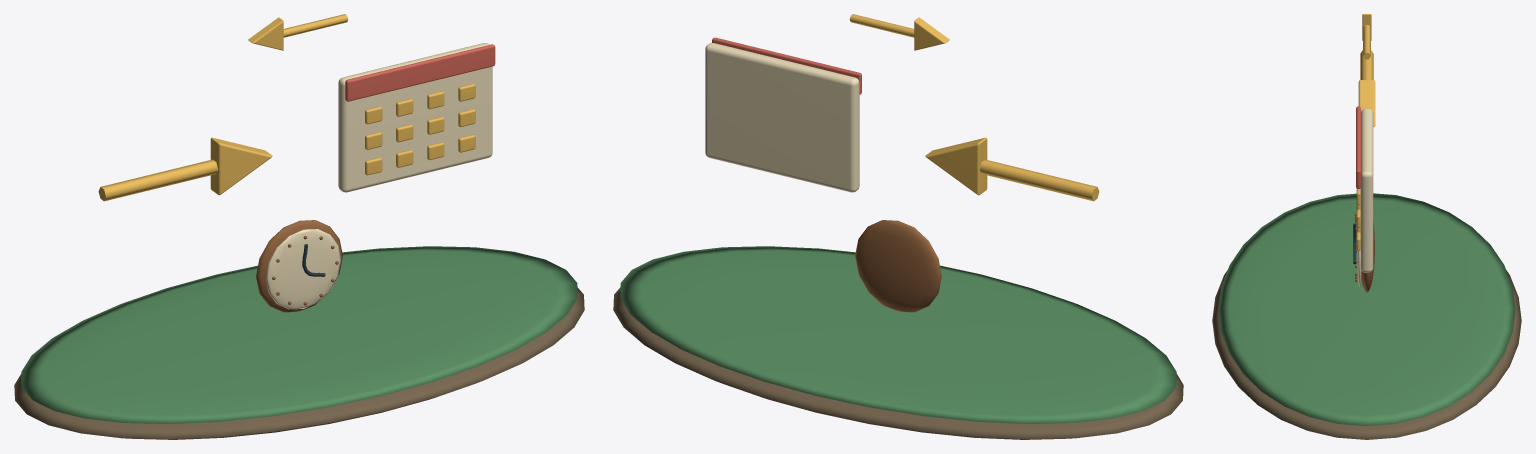
Rendered from complete-first-last-year-calendar.glb.
3 views of the same model, side by side, from view 1: azimuth 30°, elevation 25°; view 2: azimuth 150°, elevation 25°; view 3: azimuth 270°, elevation 25° (orthographic). The views are drawn at different scales.
Parts seen in each view (by area): view 1: complete-first-last-year-calendar_surface_01, complete-first-last-year-calendar_surface_03, complete-first-last-year-calendar_surface_00, complete-first-last-year-calendar_surface_02, complete-first-last-year-calendar_surface_04, complete-first-last-year-calendar_surface_05; view 2: complete-first-last-year-calendar_surface_01, complete-first-last-year-calendar_surface_03, complete-first-last-year-calendar_surface_00, complete-first-last-year-calendar_surface_05, complete-first-last-year-calendar_surface_02, complete-first-last-year-calendar_surface_04; view 3: complete-first-last-year-calendar_surface_01, complete-first-last-year-calendar_surface_00, complete-first-last-year-calendar_surface_03, complete-first-last-year-calendar_surface_02, complete-first-last-year-calendar_surface_04, complete-first-last-year-calendar_surface_05.
Boxes of the visible parts, x1,y1,x2,y2 form: complete-first-last-year-calendar_surface_01: (21,246,577,423); complete-first-last-year-calendar_surface_03: (265,43,492,309); complete-first-last-year-calendar_surface_00: (14,288,584,439); complete-first-last-year-calendar_surface_02: (98,14,475,201); complete-first-last-year-calendar_surface_04: (345,44,495,101); complete-first-last-year-calendar_surface_05: (256,220,342,312); complete-first-last-year-calendar_surface_01: (620,246,1176,423); complete-first-last-year-calendar_surface_03: (705,43,933,249); complete-first-last-year-calendar_surface_00: (613,288,1183,439); complete-first-last-year-calendar_surface_05: (855,220,941,312); complete-first-last-year-calendar_surface_02: (849,14,1099,201); complete-first-last-year-calendar_surface_04: (712,37,861,94); complete-first-last-year-calendar_surface_01: (1218,193,1515,425); complete-first-last-year-calendar_surface_00: (1212,270,1521,439); complete-first-last-year-calendar_surface_03: (1357,108,1373,286); complete-first-last-year-calendar_surface_02: (1356,14,1375,250); complete-first-last-year-calendar_surface_04: (1356,106,1360,188); complete-first-last-year-calendar_surface_05: (1355,213,1374,292).
Size of the model in its own units: 4.56 by 2.79 by 2.5.
